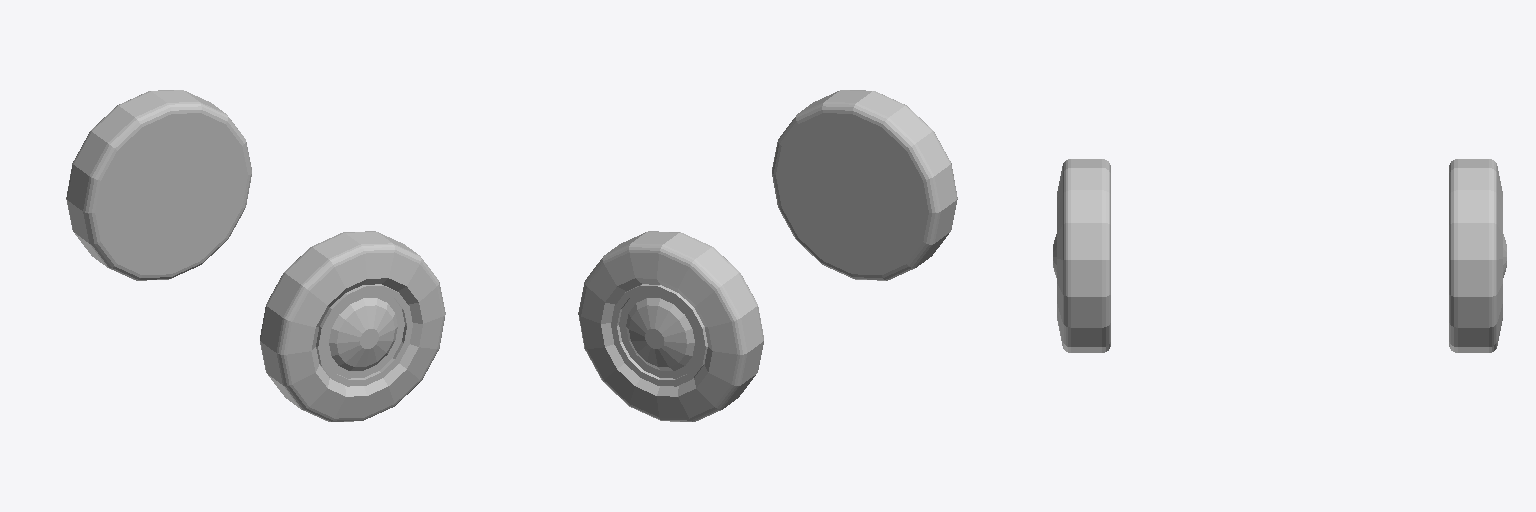
Rendered from roues_arrière.obj.
3 views of the same model, side by side, from view 1: azimuth 30°, elevation 25°; view 2: azimuth 150°, elevation 25°; view 3: azimuth 270°, elevation 25° (orthographic).
Parts seen in each view (by area): view 1: Object_42; view 2: Object_42; view 3: Object_42.
Part boxes in pixels (left/top/right/bottom): Object_42: left=66, top=90, right=445, bottom=421; Object_42: left=578, top=90, right=957, bottom=421; Object_42: left=1053, top=159, right=1506, bottom=352.
Bounding box in the file's own units: 2.92 × 2.92 × 6.8.